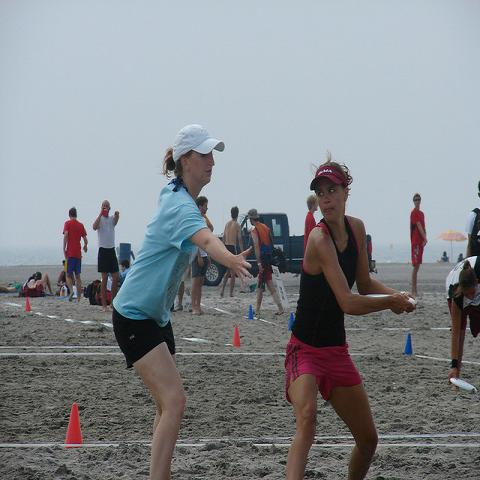truck: (218, 213, 304, 277)
